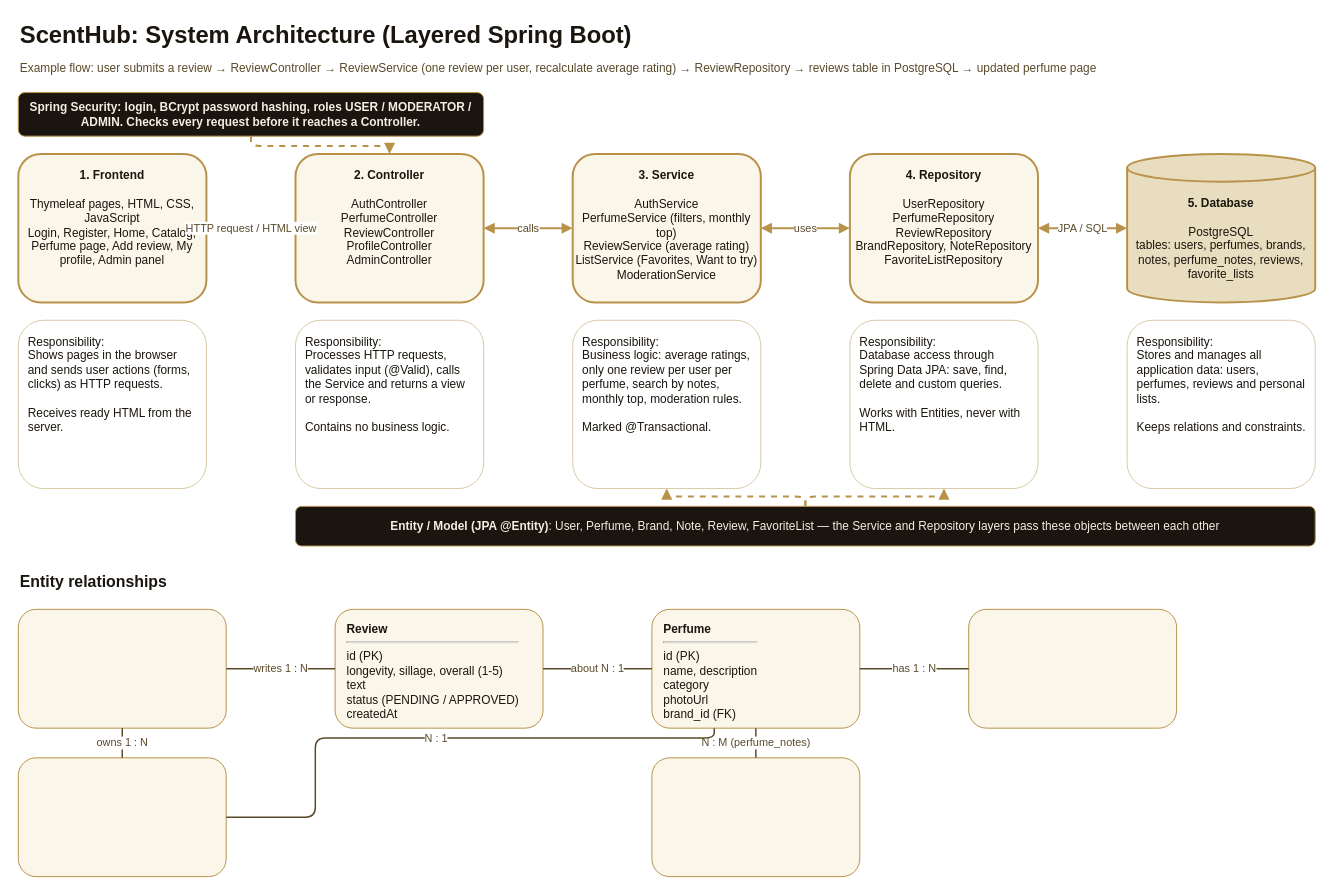
Image size: 1333x894. Some labels were removed from this diagram. The shapes that lost their labels are listed below. From the top down, each one's centre as x and y in pixels, then its label:
the point at 121,668: User id (PK) username, email passwordHash role (USER / MODERATOR / ADMIN)
the point at 1072,668: Brand id (PK) name country
the point at 121,817: FavoriteList id (PK) type (FAVORITE / WANT_TO_TRY) user_id (FK), perfume_id (FK)
the point at 755,817: Note id (PK) name type (TOP / HEART / BASE)
